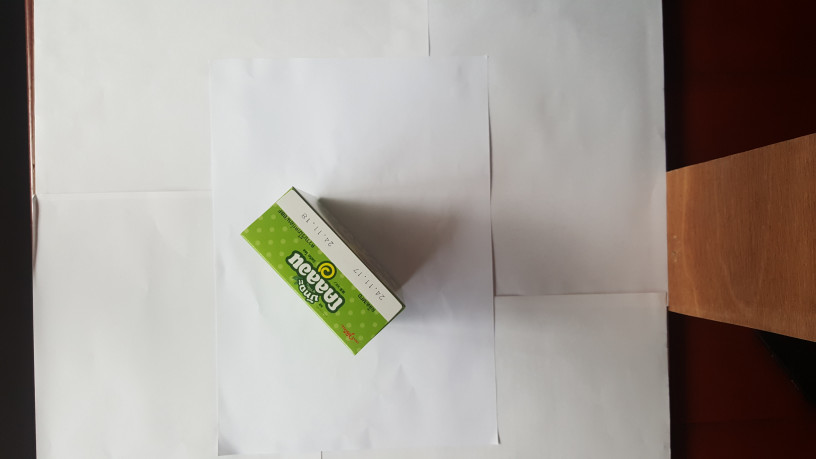collon-matcha: (241, 185, 404, 362)
